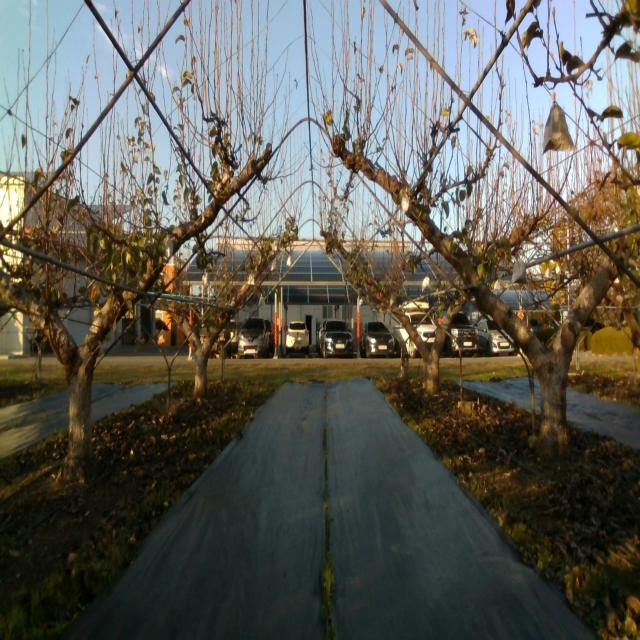pearbags: (542, 102, 574, 154), (512, 260, 528, 284)
